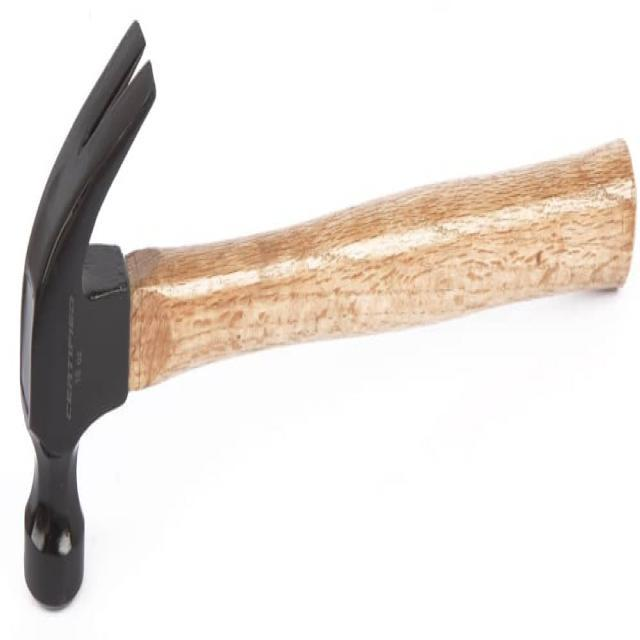hammer: (21, 11, 638, 620)
